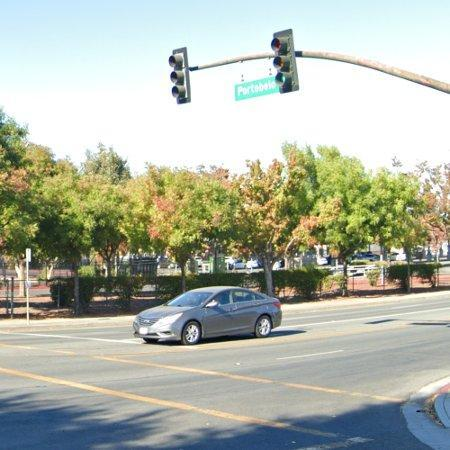traffic lights: (271, 28, 301, 95), (168, 46, 192, 105)
